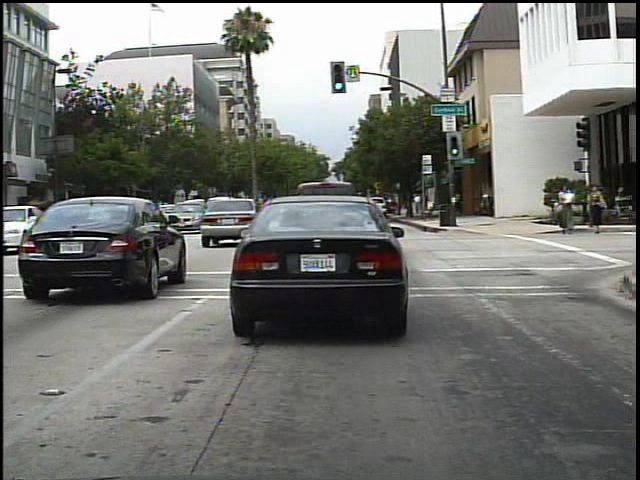person: (555, 178, 582, 240), (584, 182, 611, 239), (408, 188, 425, 219)
